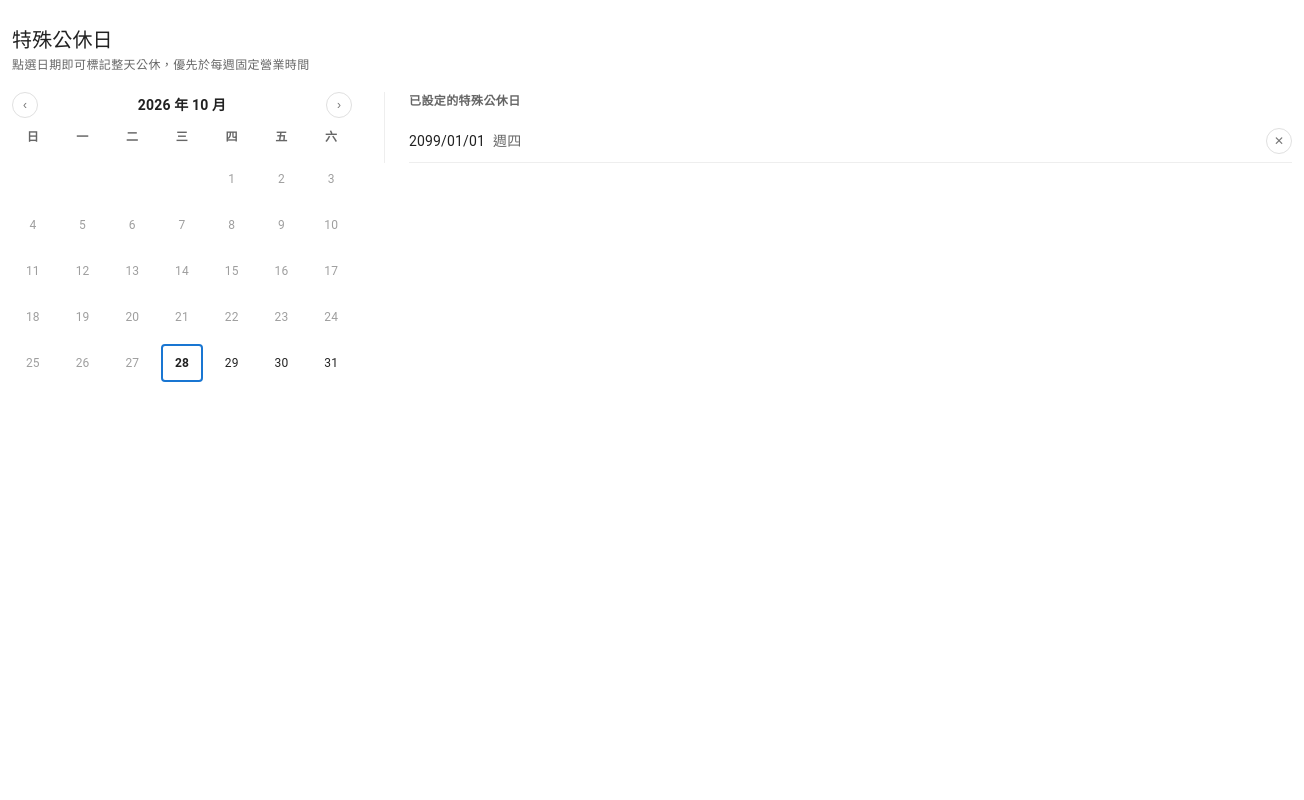
ClosedDatesSection › 清單的移除按鈕直接刪除，不顯示警告，並重新整理清單
The width and height of the screenshot is (1304, 800).
Expected: the text "2099/01/01" is shown, top-left (409, 133), bottom-right (485, 149)
Click the button named "移除公休日": [1279, 141] box top-left (1266, 128), bottom-right (1292, 154)
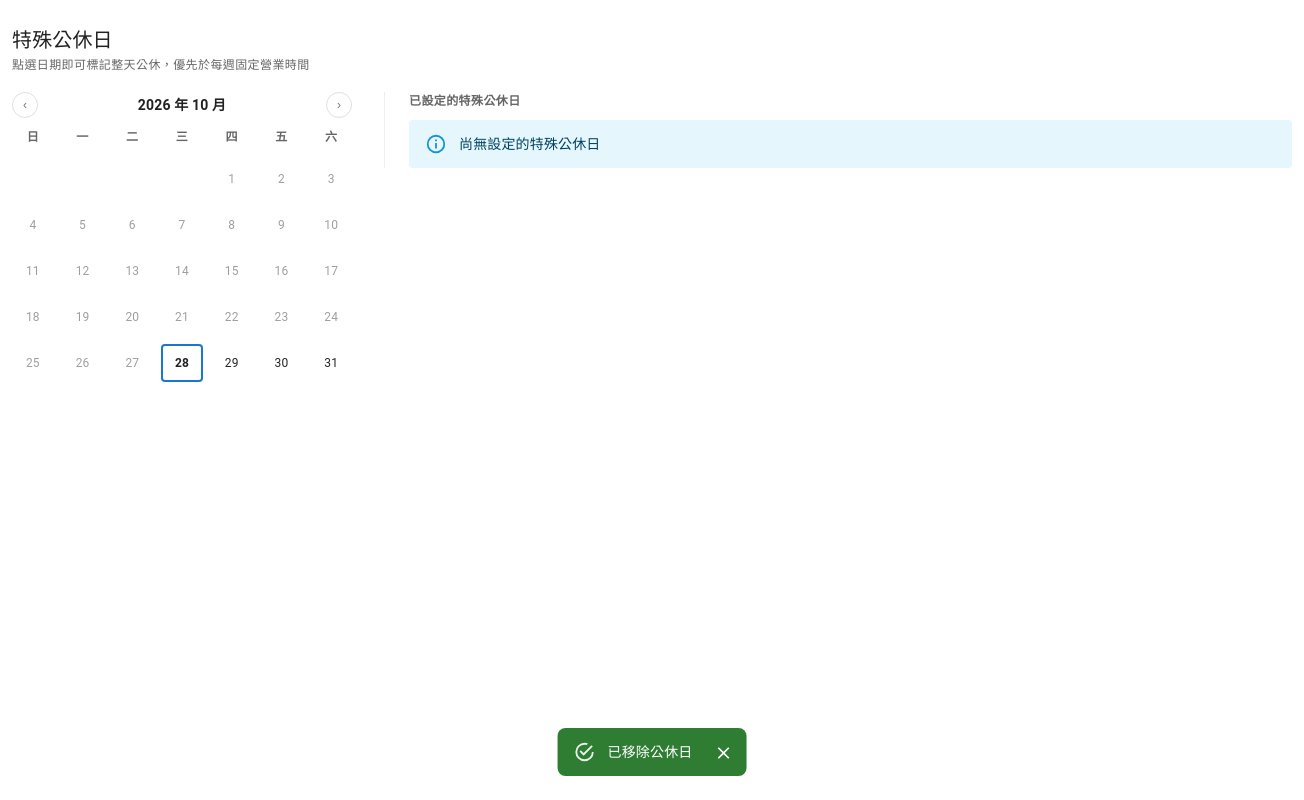
Now the text "尚無設定的特殊公休日" is shown, box top-left (459, 136), bottom-right (600, 152)
